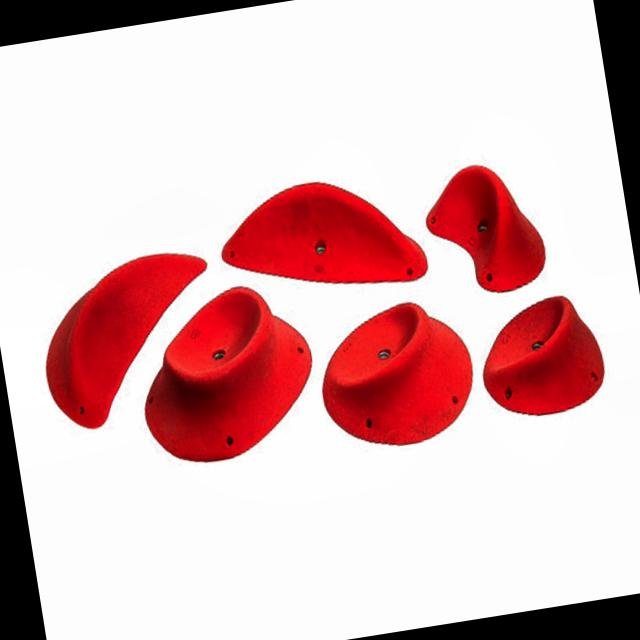Hold: (141, 274, 321, 473), (34, 245, 211, 444), (217, 177, 439, 296), (318, 297, 479, 455), (415, 147, 560, 297), (480, 284, 616, 424)
